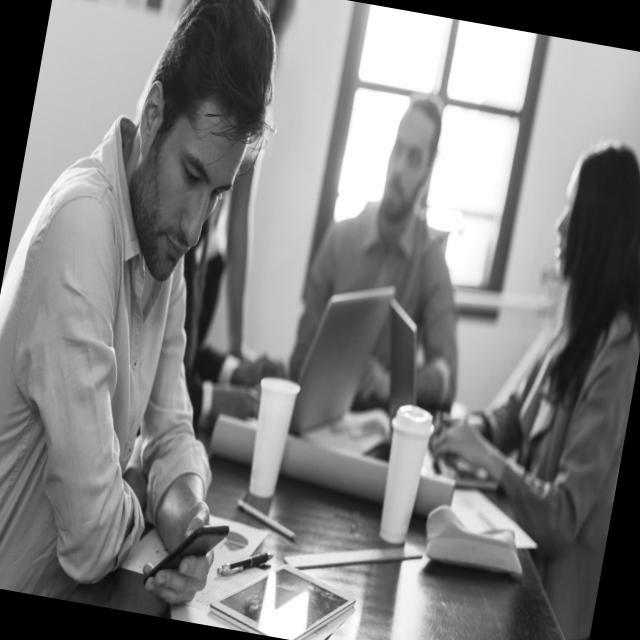phone: (141, 511, 230, 598), (216, 542, 274, 584)
